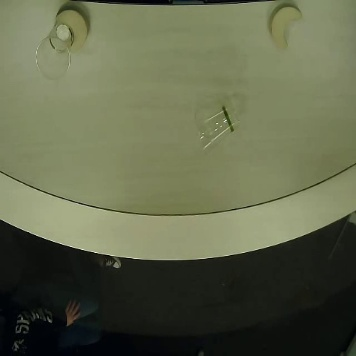empty_cup: (194, 99, 244, 157), (36, 23, 72, 80)
puck: (54, 9, 88, 51), (268, 6, 302, 48)
